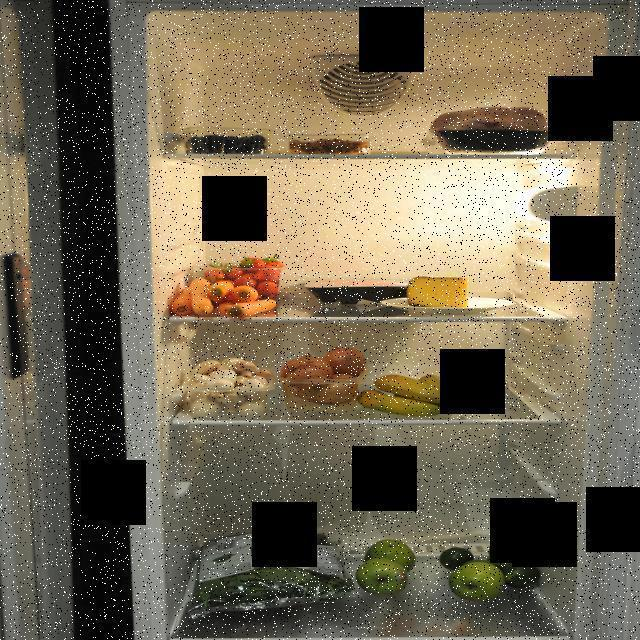apple: (356, 538, 422, 604), (447, 560, 508, 604)
banana: (358, 372, 471, 417)
blueberries: (185, 133, 268, 156)
carrot: (165, 274, 278, 322)
cheese: (403, 274, 473, 310)
chicken: (418, 104, 560, 156)
ground_beef: (304, 277, 426, 305)
lime: (487, 540, 541, 590), (438, 546, 478, 570)
mushrooms: (180, 356, 278, 421)
onion: (276, 345, 368, 407)
shrimp: (282, 135, 374, 160)
spinach: (186, 526, 362, 622)
strawberries: (197, 256, 280, 298)
